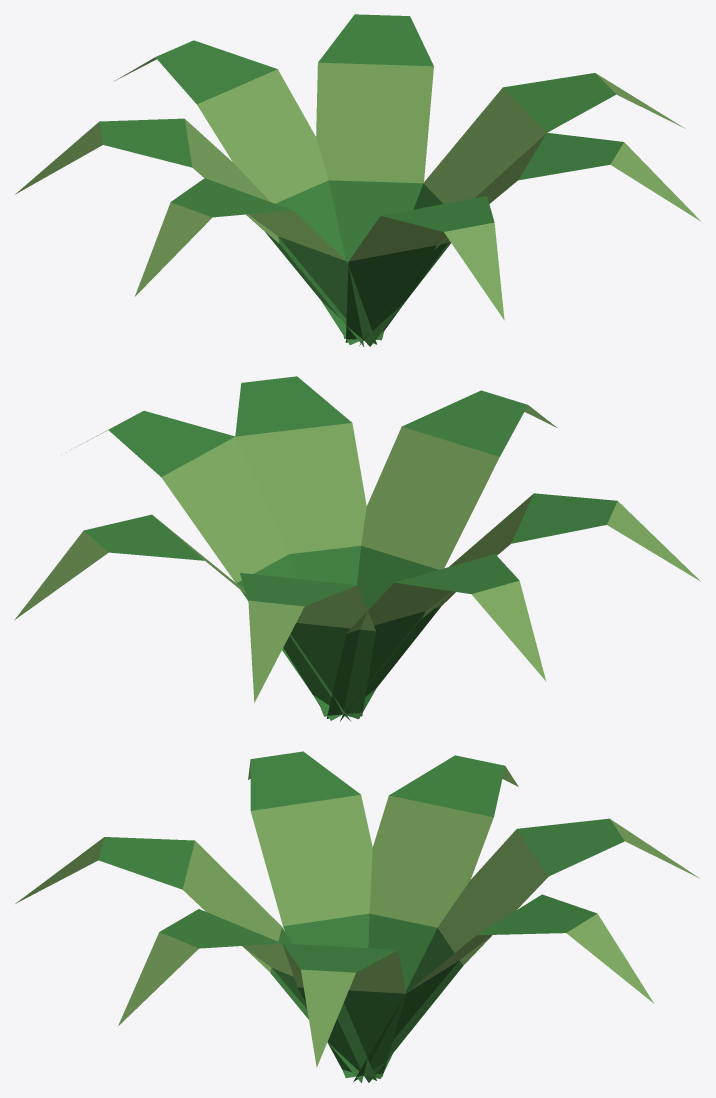
File: fern.glb
3 views of the same model, one above another, from view 1: azimuth 30°, elevation 25°; view 2: azimuth 150°, elevation 25°; view 3: azimuth 270°, elevation 25° (orthographic). The views are drawn at different scales.
Visible parts, largest first — view 1: fern; view 2: fern; view 3: fern.
Boxes of the visible parts, x1,y1,x2,y2 form: fern: [15, 14, 701, 346]; fern: [14, 376, 700, 721]; fern: [15, 751, 699, 1082].
Bounding box in the file's own units: 3.1 × 1.08 × 3.13.
